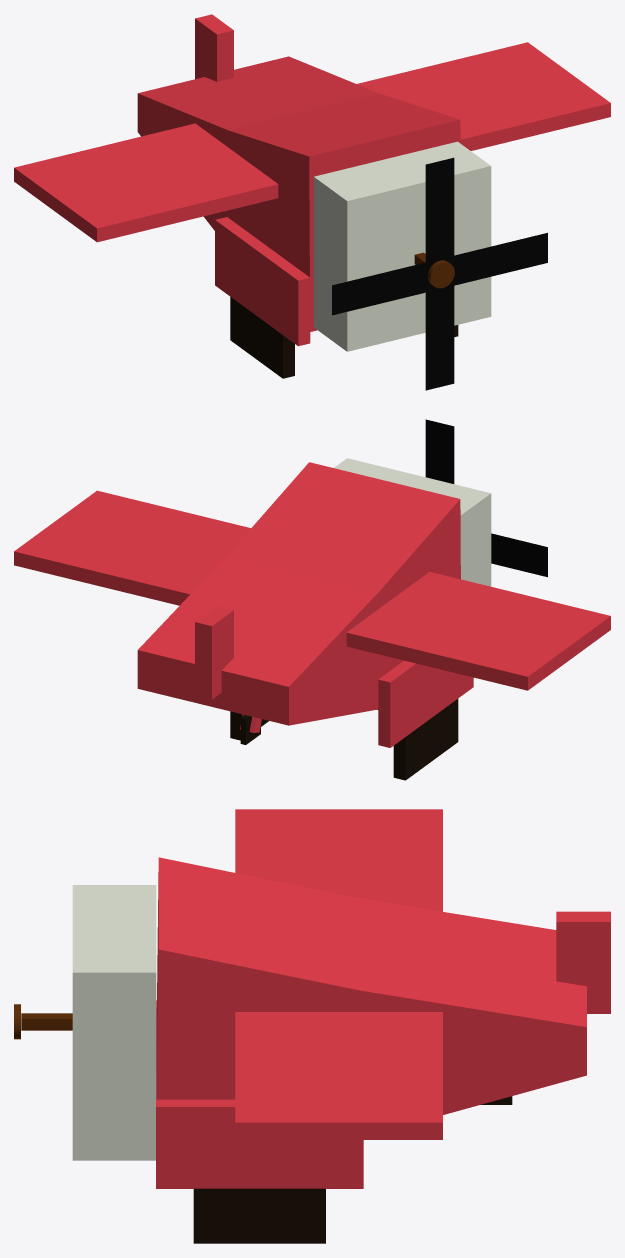
The picture shows the model from 3 angles, top to bottom: view 1: azimuth 30°, elevation 25°; view 2: azimuth 150°, elevation 25°; view 3: azimuth 270°, elevation 25°; orthographic projection. The views are drawn at different scales.
Parts seen in each view (by area): view 1: Cube.011, Cube, Cube.001, Propellor, Cube.006, Cube.003, Cube.002, Cube.008, Cylinder; view 2: Cube.011, Cube.006, Cube.001, Cube.003, Cube, Propellor, Cube.008, Cube.002; view 3: Cube.011, Cube.001, Cube.006, Cube, Cube.004, Cube.005, Cube.008, Cube.012.
Part boxes in pixels (x1,y1,x2,y2): Cube.011: (14, 42, 610, 242); Cube: (313, 141, 491, 351); Cube.001: (227, 93, 460, 331); Propellor: (332, 157, 547, 390); Cube.006: (137, 56, 378, 230); Cube.003: (215, 217, 310, 346); Cube.002: (230, 297, 294, 378); Cube.008: (195, 14, 233, 81); Cylinder: (428, 260, 454, 288); Cube.011: (14, 490, 610, 690); Cube.006: (137, 554, 379, 725); Cube.001: (228, 462, 460, 709); Cube.003: (378, 660, 473, 747); Cube: (334, 458, 491, 586); Propellor: (425, 419, 547, 577); Cube.008: (195, 606, 233, 699); Cube.002: (393, 699, 458, 780); Cube.011: (235, 809, 442, 1139); Cube.001: (156, 857, 361, 1099); Cube.006: (361, 898, 586, 1114); Cube: (72, 885, 156, 1160); Cube.004: (156, 1099, 363, 1188); Cube.005: (193, 1188, 325, 1243); Cube.008: (556, 911, 610, 1013); Cube.012: (21, 1013, 72, 1030).
Size of the model in its own units: 7.14 by 3.28 by 5.75.
